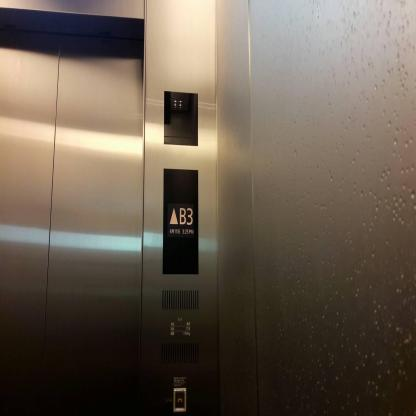call: (174, 388, 186, 411)
led: (160, 165, 200, 277), (161, 88, 199, 148)
